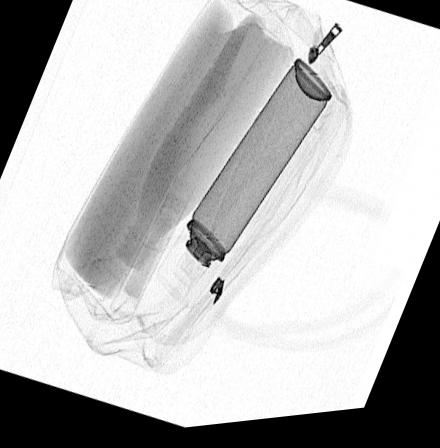Sprayer: (154, 62, 333, 314)
